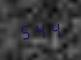five: (18, 21, 31, 40)
four: (33, 20, 46, 39), (47, 19, 60, 38)
